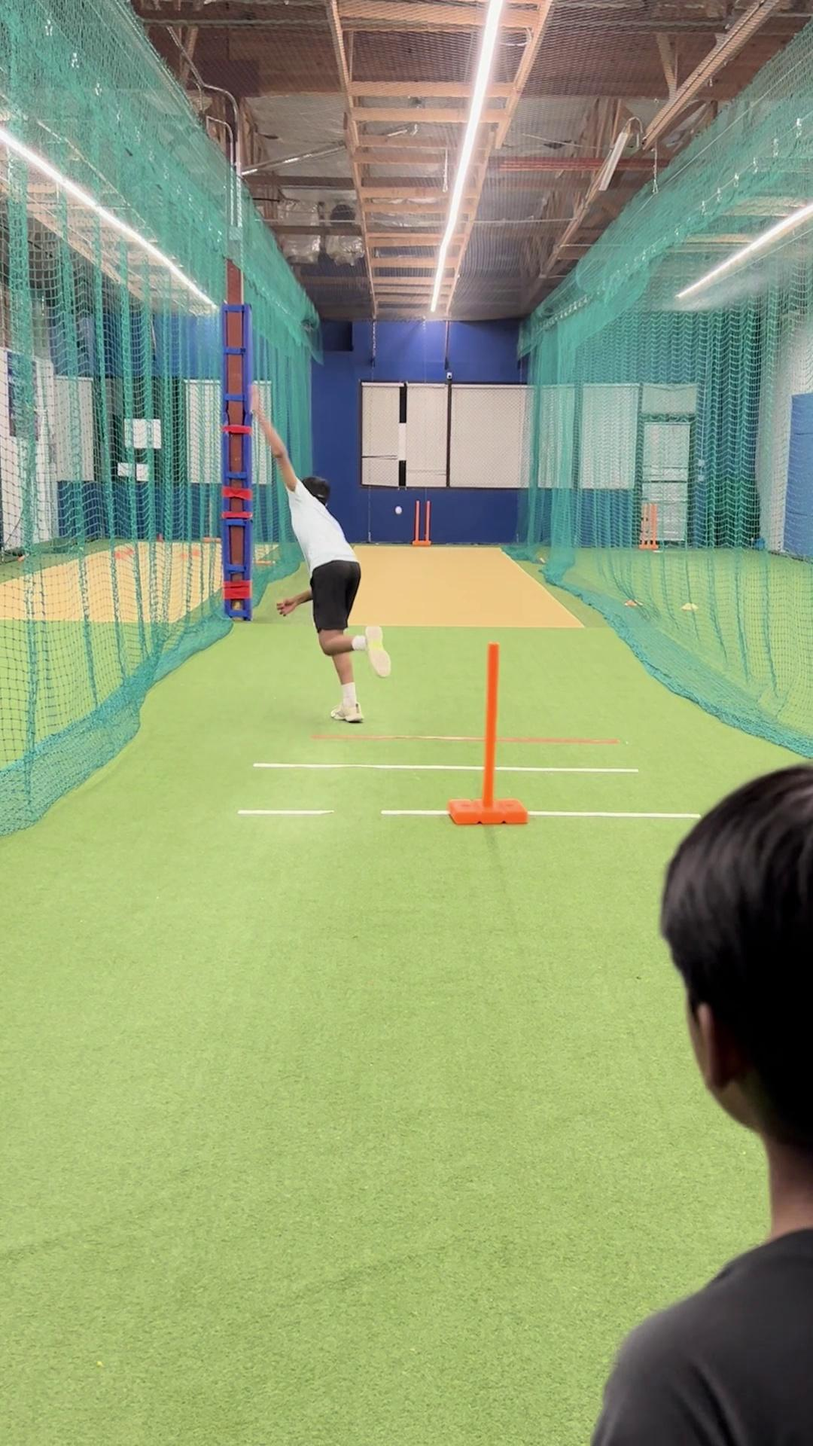ball: (391, 501, 407, 520)
